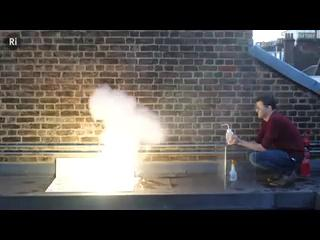Fire: (89, 91, 149, 190)
